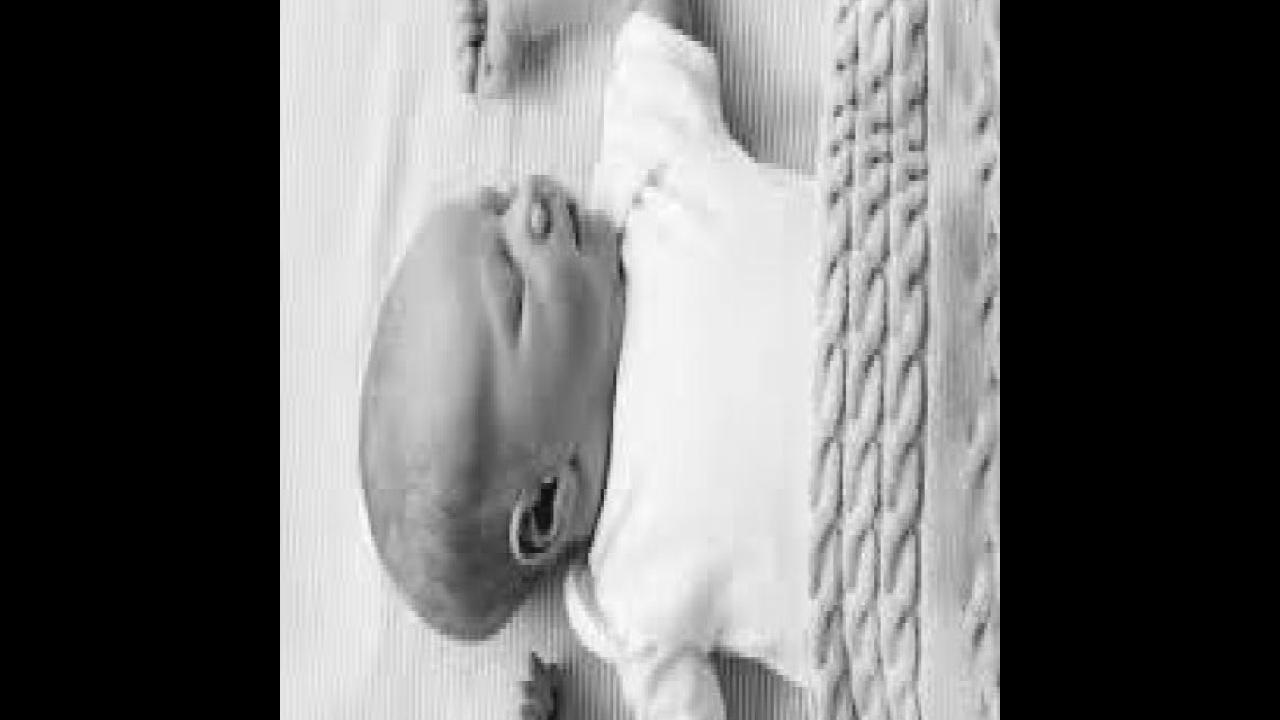hand: (446, 0, 522, 110), (511, 653, 570, 720)
